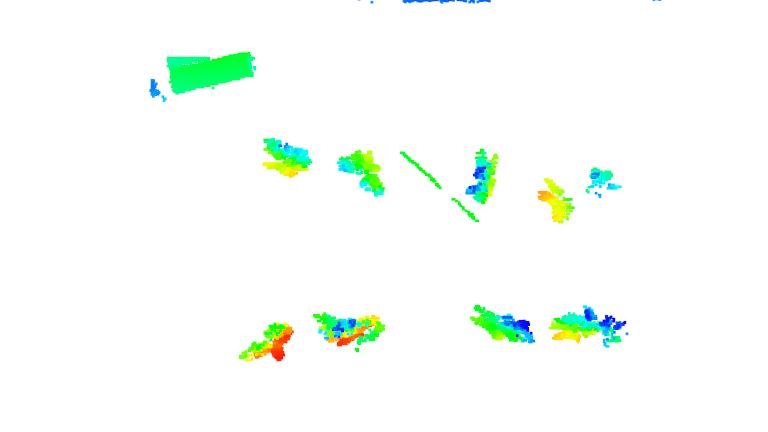chickpea: (535, 165, 619, 225), (550, 307, 634, 357), (313, 302, 387, 357), (463, 302, 539, 352), (234, 308, 296, 369), (332, 144, 387, 201), (261, 134, 315, 181), (464, 149, 502, 208)
